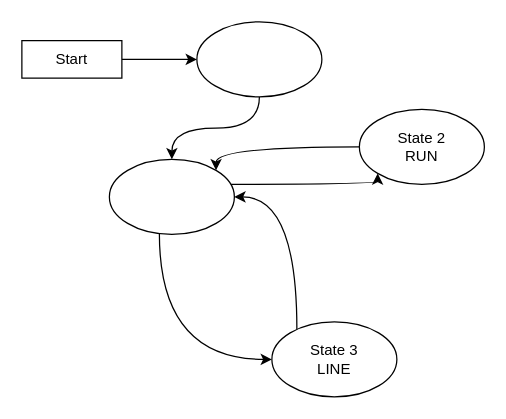
Image size: 506x419. Some labels were removed from this diagram. The shapes that lost their labels are listed below. From the top down, each one's centre as x and y in pixels, then its label:
At [259,59]: "State 0 INIT".
At [171,196]: "State 1 WAIT".
